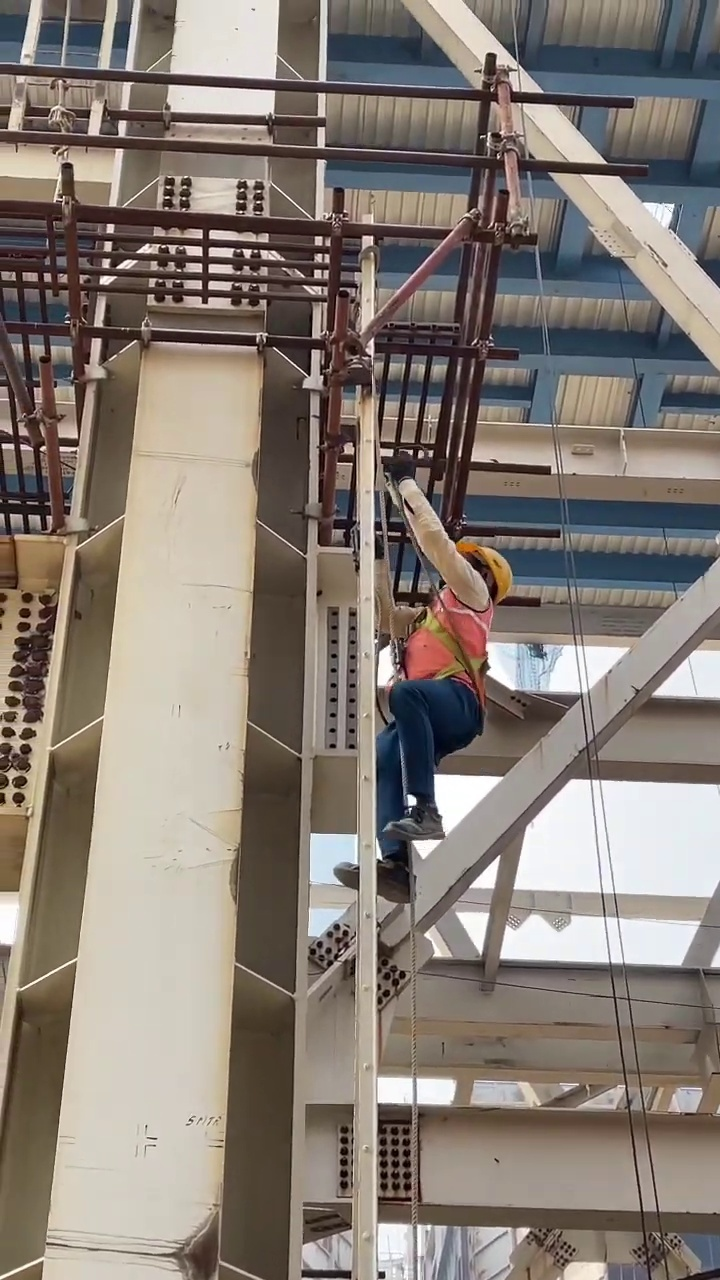Helmet: (454, 539, 515, 600)
Person: (304, 538, 514, 906)
Safety_Harness: (391, 594, 499, 730)
Safety_shoes: (334, 855, 418, 905), (379, 801, 447, 842)
